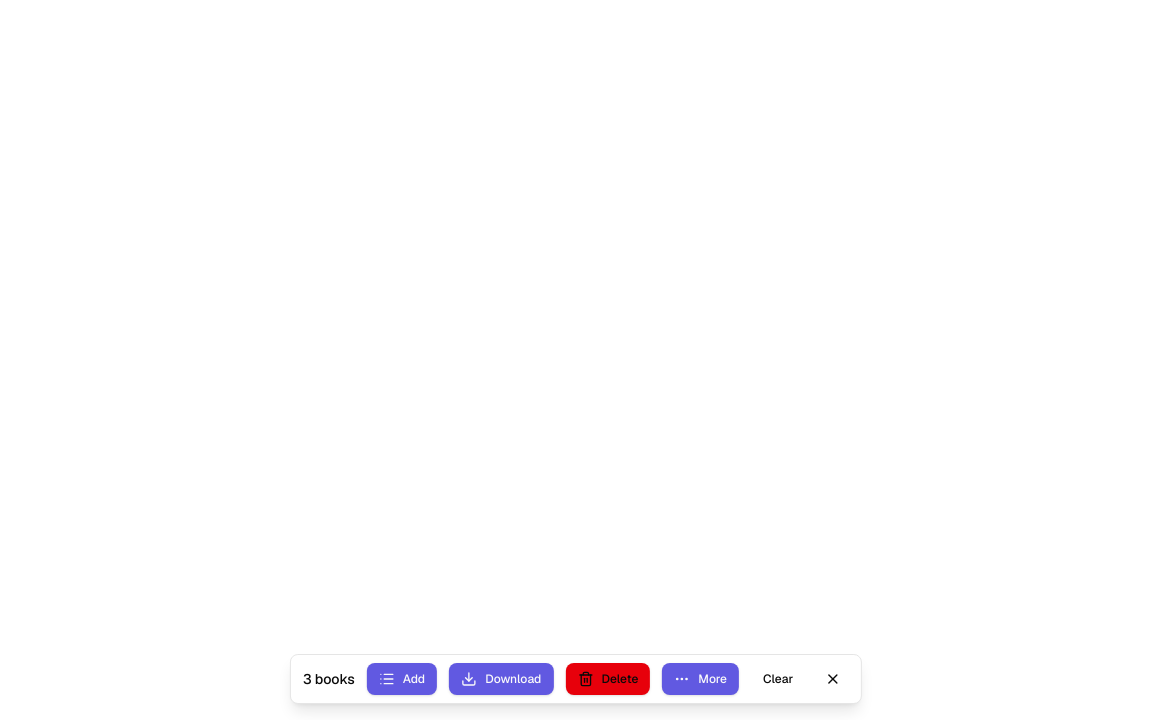
SelectionToolbar download file-type selection › shows file-type checkboxes in the download popover
The desktop Download button should be present with size info
Click the button "Download": (501, 679) [449, 663, 554, 695]
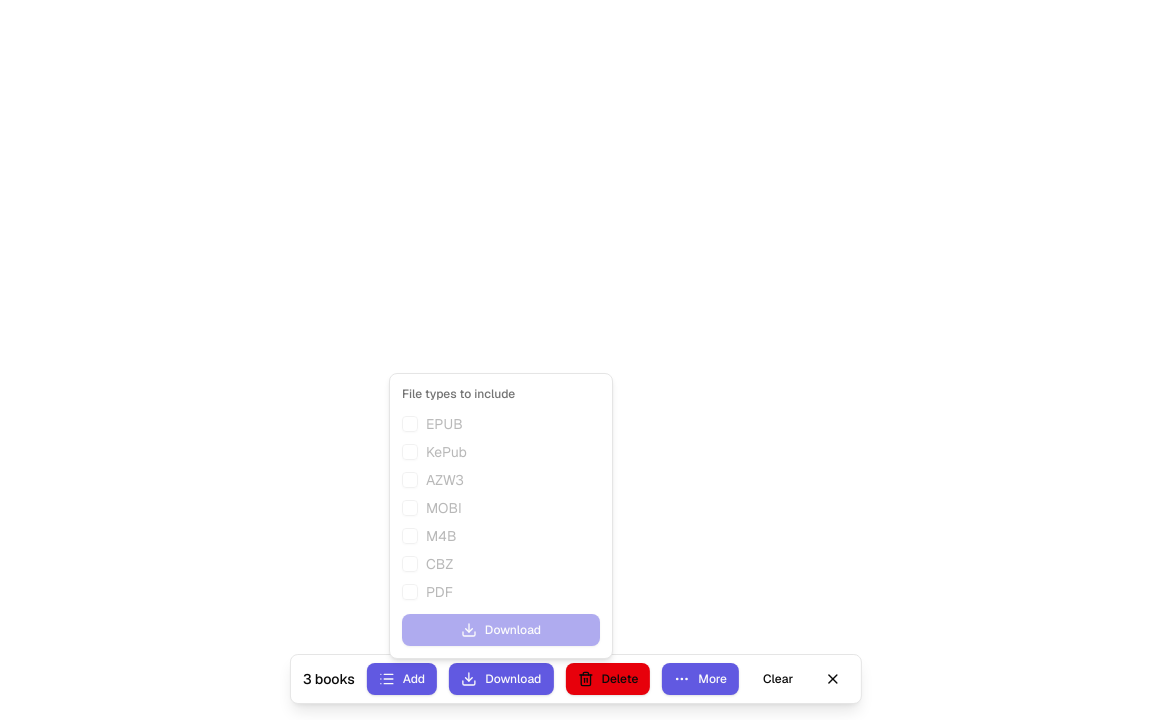
Check: the text "EPUB" is shown, box [426, 414, 463, 434]
Check: the text "AZW3" is shown, box [426, 470, 464, 490]
Check: the text "MOBI" is shown, box [426, 498, 462, 518]
